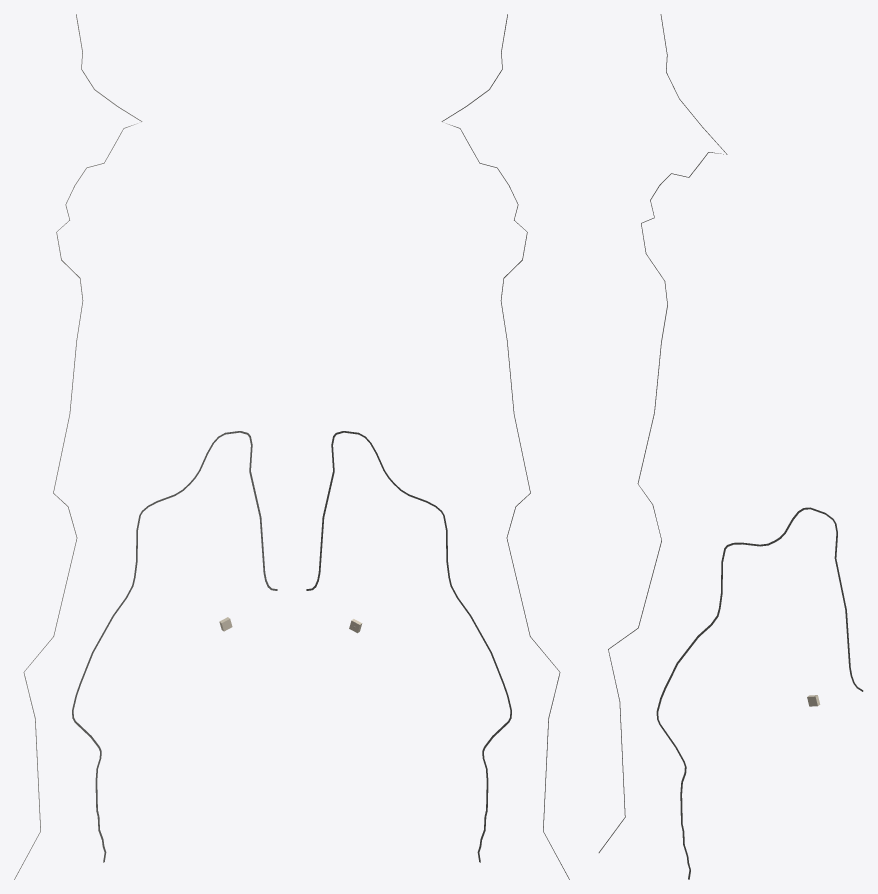
File: historic-palestine-08_25_3498_3197.glb
3 views of the same model, side by side, from view 1: azimuth 30°, elevation 25°; view 2: azimuth 150°, elevation 25°; view 3: azimuth 330°, elevation 25° (orthographic).
Parts seen in each view (by area): view 1: Road .001, Road; view 2: Road .001, Road; view 3: Road .001, Road.
Boxes of the visible parts, box(x1,y1,x2,y2) form: Road .001: box(72, 431, 277, 862); Road: box(14, 14, 142, 879); Road .001: box(306, 431, 511, 862); Road: box(441, 14, 569, 879); Road .001: box(656, 507, 863, 879); Road: box(598, 14, 727, 852).
Bounding box in the file's own units: 488 × 1511 × 8.7.
